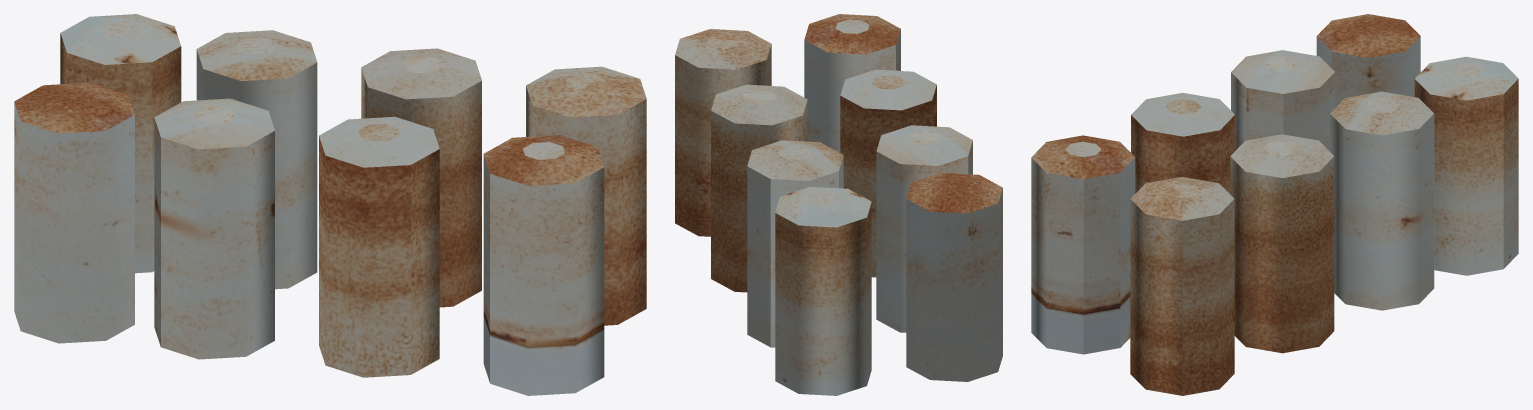
File: youguan_01_10.fbx
3 views of the same model, side by side, from view 1: azimuth 30°, elevation 25°; view 2: azimuth 150°, elevation 25°; view 3: azimuth 270°, elevation 25° (orthographic). The views are drawn at different scales.
Visible parts, largest first — view 1: Youguan_01_10; view 2: Youguan_01_10; view 3: Youguan_01_10.
Boxes of the visible parts, bbox=[...] form: Youguan_01_10: bbox=[14, 14, 646, 395]; Youguan_01_10: bbox=[675, 14, 1002, 395]; Youguan_01_10: bbox=[1031, 14, 1518, 395].
Bounding box in the file's own units: 2482 × 1024 × 2471.
